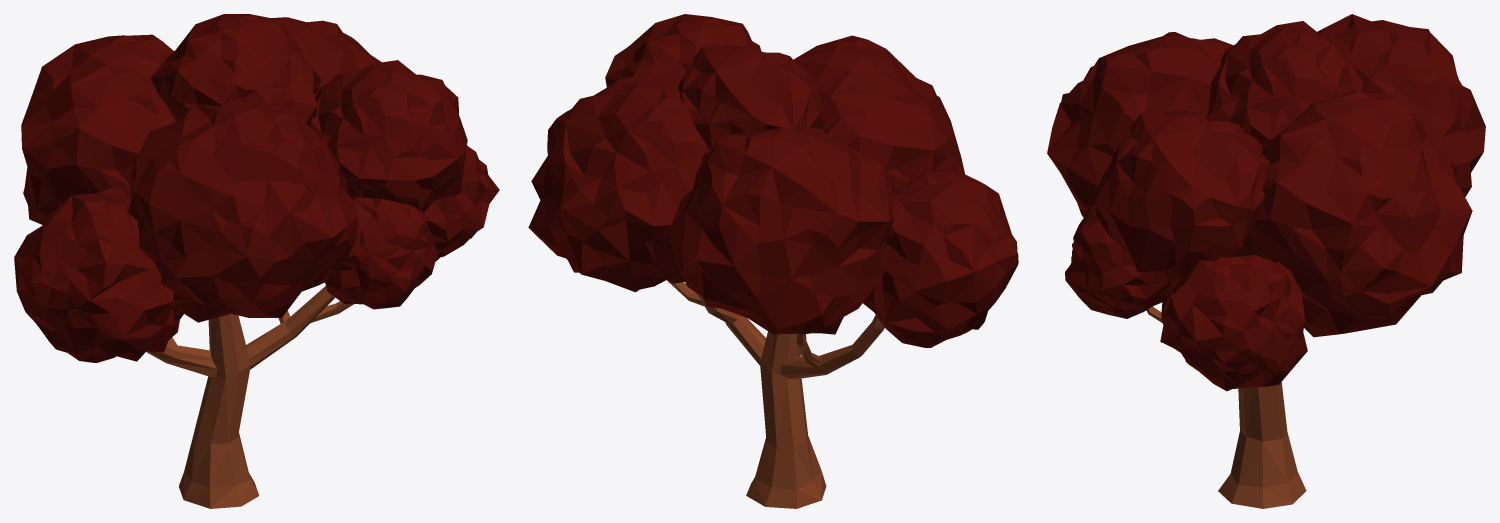
File: burning-tree3.glb
3 views of the same model, side by side, from view 1: azimuth 30°, elevation 25°; view 2: azimuth 150°, elevation 25°; view 3: azimuth 270°, elevation 25° (orthographic). The views are drawn at different scales.
Visible parts, largest first — view 1: Tree.004; view 2: Tree.004; view 3: Tree.004.
Part boxes in pixels (box(x1,y1,x2,y2)): Tree.004: box(14, 14, 499, 508); Tree.004: box(528, 14, 1018, 508); Tree.004: box(1047, 14, 1485, 508).
Bounding box in the file's own units: 0.5727 × 0.5331 × 0.4464.
